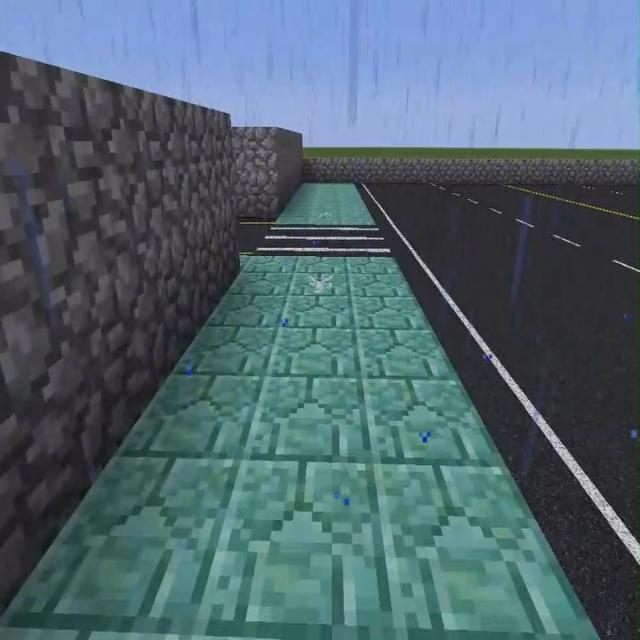8: (254, 228, 388, 253)
crosswalk: (353, 183, 639, 639), (239, 219, 270, 254)
road: (0, 259, 596, 639), (274, 183, 373, 227)
